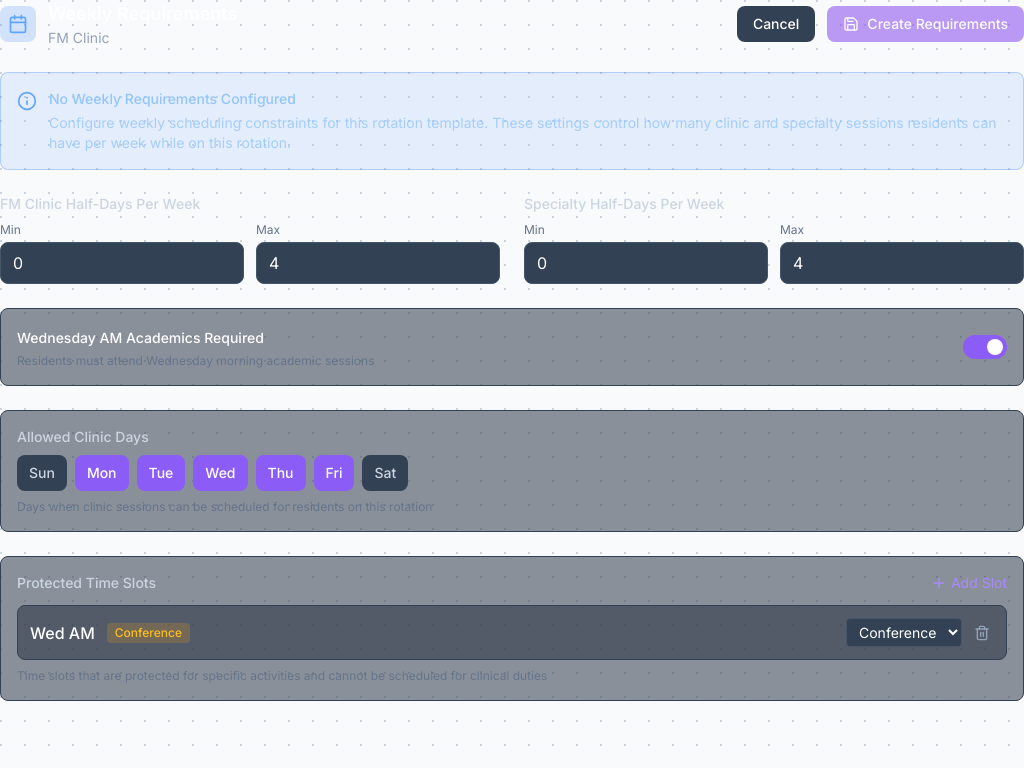
it: WeeklyRequirementsEditor › Allowed Clinic Days › toggles day selection on click
Step 1. Click the button "Sun" → (42, 473), box [17,455,67,491]
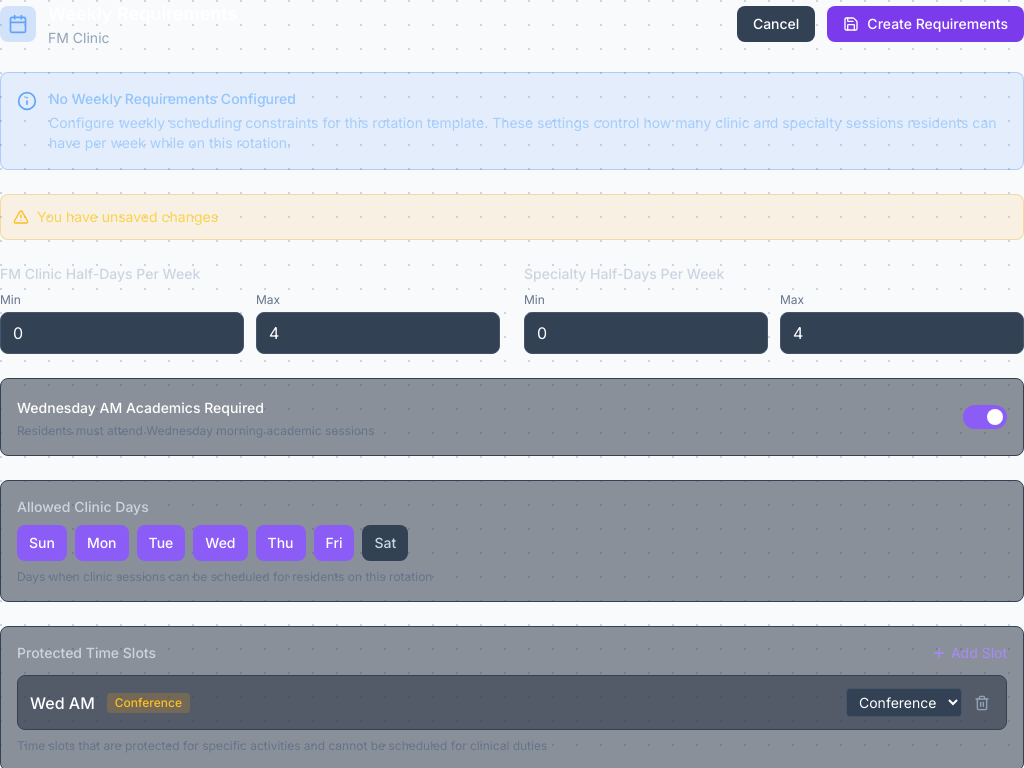
Check: the text "You have unsaved changes" is shown, box [37,207,218,227]
